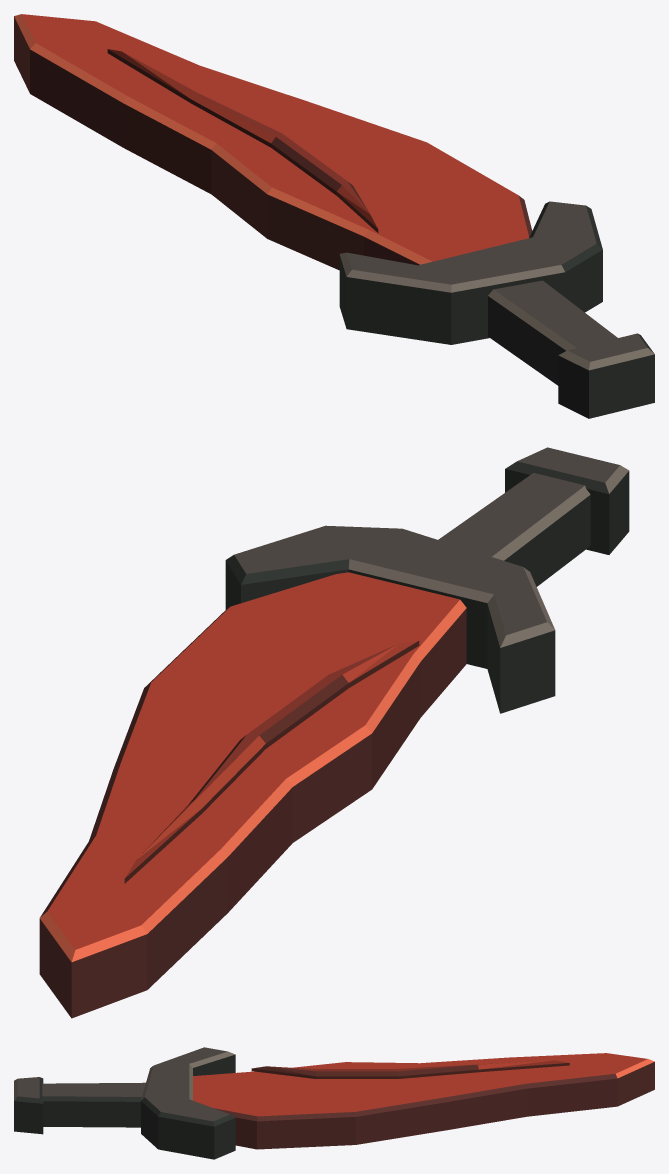
The model's file is lava_sword.fbx.
The picture shows the model from 3 angles, top to bottom: view 1: azimuth 30°, elevation 25°; view 2: azimuth 150°, elevation 25°; view 3: azimuth 270°, elevation 25°; orthographic projection. The views are drawn at different scales.
Parts seen in each view (by area): view 1: lava_sword; view 2: lava_sword; view 3: lava_sword.
Boxes of the visible parts, x1,y1,x2,y2 form: lava_sword: [14, 14, 654, 418]; lava_sword: [39, 447, 629, 1018]; lava_sword: [14, 1047, 654, 1159].
Bounding box in the file's own units: 0.69 × 0.1625 × 2.4.
1 material, 1 textured.
